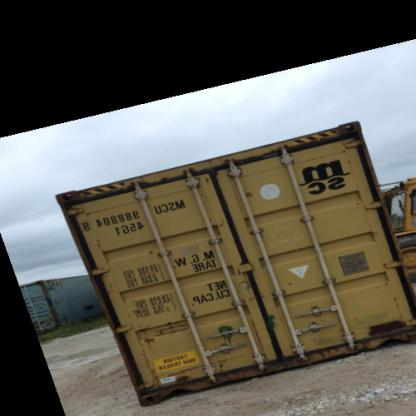Damage: (139, 310, 193, 350), (364, 309, 408, 342), (146, 365, 198, 391), (222, 254, 258, 290), (62, 192, 97, 226), (214, 321, 236, 351), (236, 182, 260, 206)
